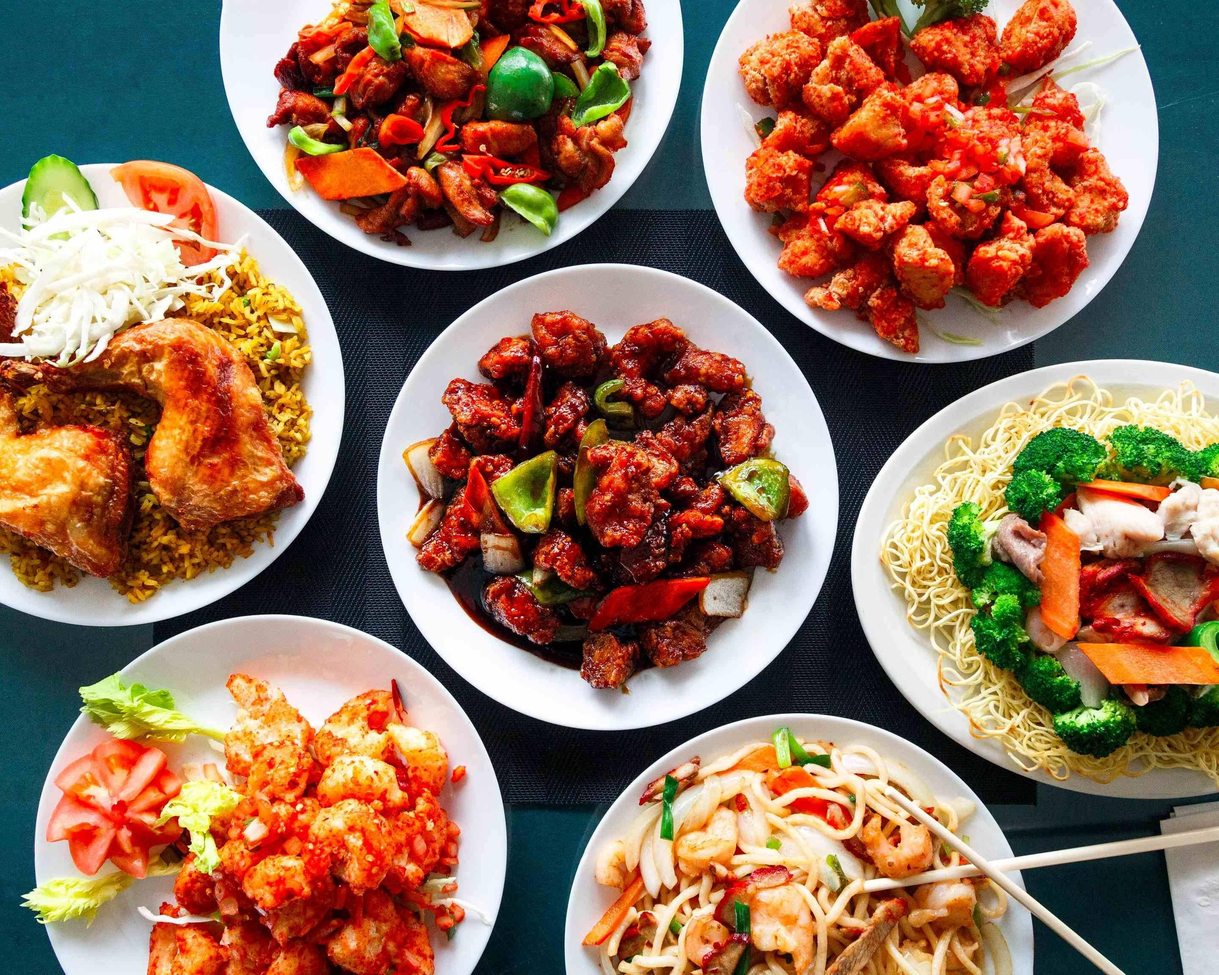Braised Crucian Carp: (396, 270, 838, 731), (849, 356, 1219, 802), (25, 623, 480, 975), (734, 0, 1131, 374), (0, 173, 344, 594), (212, 0, 701, 275), (550, 701, 1037, 975)
